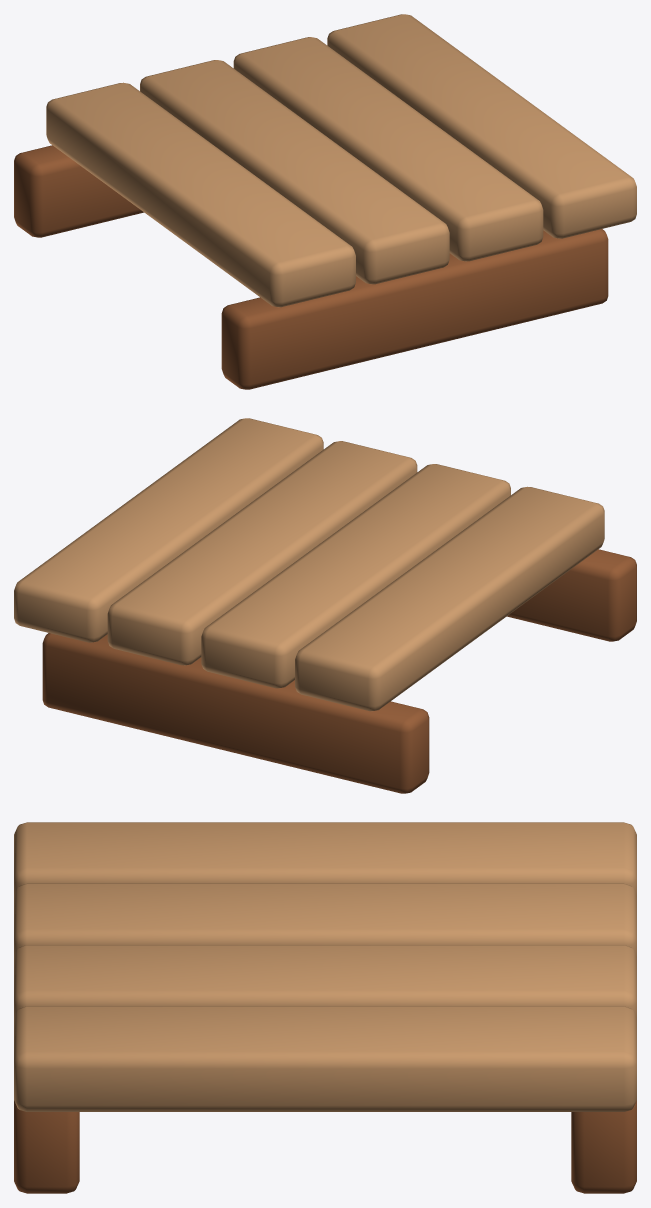
File: SM_Dock_Planks.fbx
3 renders of one model, top to bottom at view 1: azimuth 30°, elevation 25°; view 2: azimuth 150°, elevation 25°; view 3: azimuth 270°, elevation 25°, orthographic. The views are drawn at different scales.
Parts seen in each view (by area): view 1: SM_Dock_Planks; view 2: SM_Dock_Planks; view 3: SM_Dock_Planks.
Boxes of the visible parts, bbox=[...] form: SM_Dock_Planks: bbox=[14, 14, 636, 389]; SM_Dock_Planks: bbox=[14, 418, 636, 793]; SM_Dock_Planks: bbox=[14, 822, 636, 1193].
Bounding box in the file's own units: 2.38 × 0.681 × 2.4.
